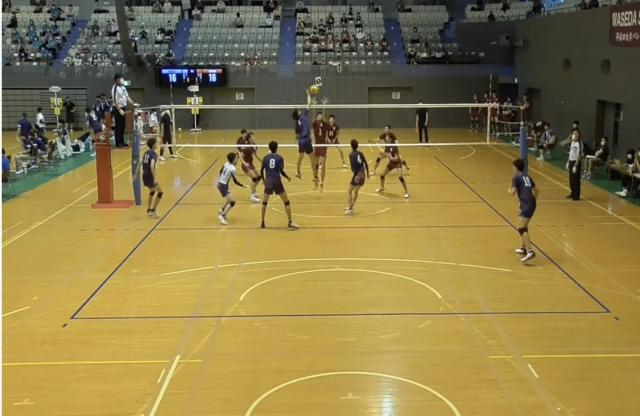spike: (290, 82, 322, 188)
